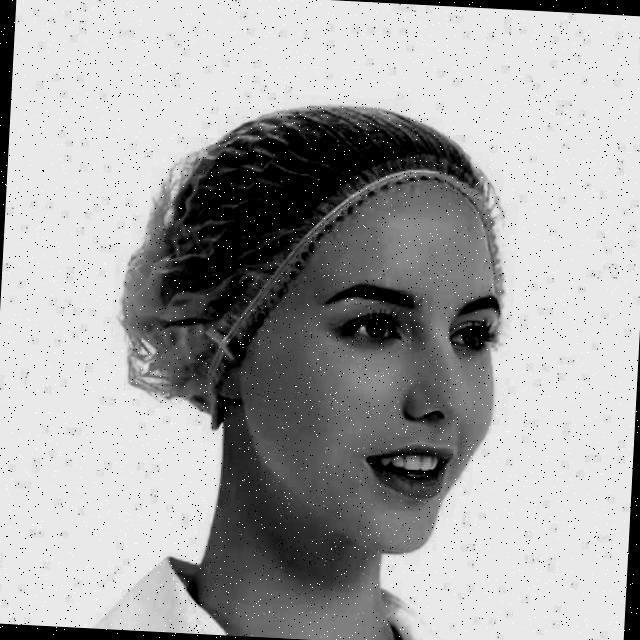gloves: (163, 104, 536, 312)
no_hairnet: (332, 362, 478, 504)
